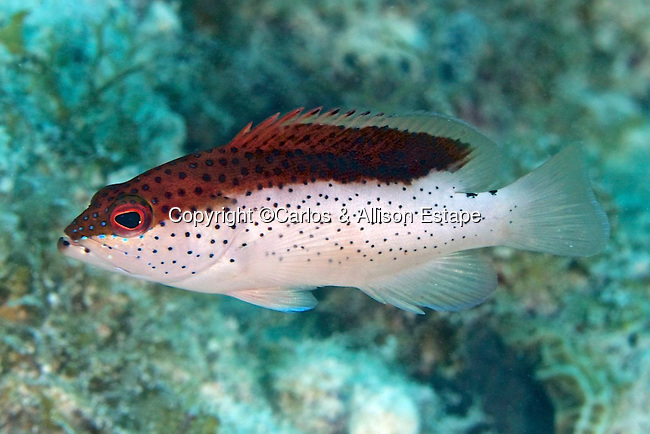Cephalopholis_fulvaw: (42, 88, 621, 338)
